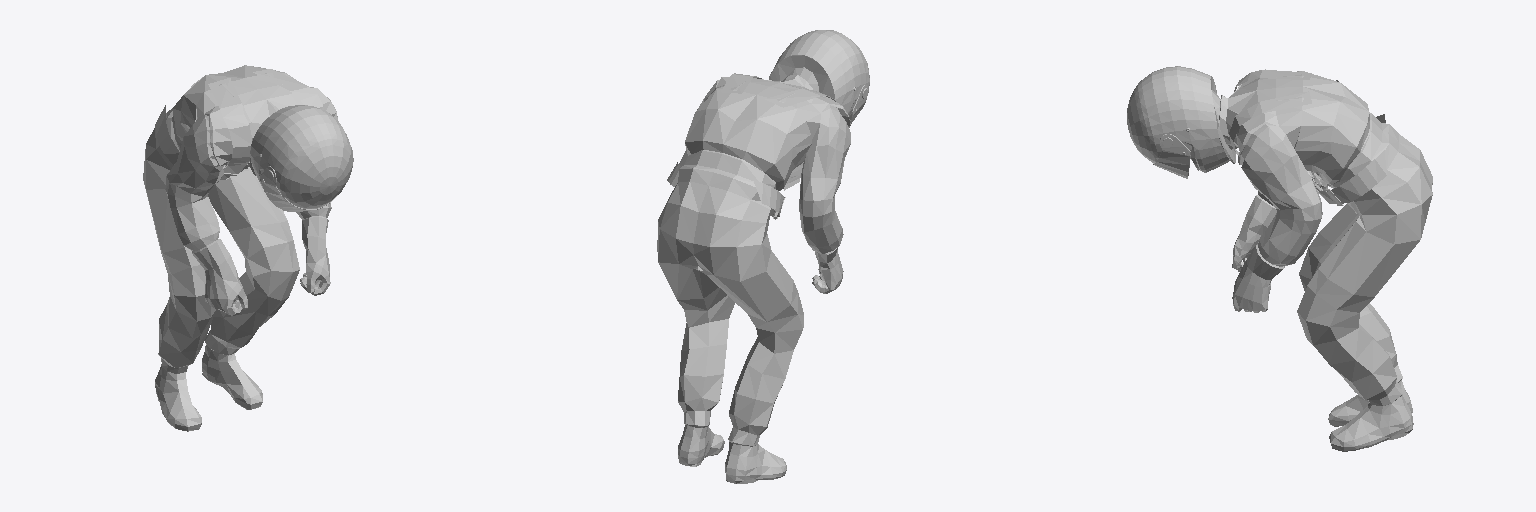
Rendered from GTR_Driver_only.obj.
3 views of the same model, side by side, from view 1: azimuth 30°, elevation 25°; view 2: azimuth 150°, elevation 25°; view 3: azimuth 270°, elevation 25° (orthographic).
Parts seen in each view (by area): view 1: Object.1; view 2: Object.1; view 3: Object.1.
Boxes of the visible parts, <box> form: Object.1: <box>143,65,353,431</box>; Object.1: <box>657,30,869,483</box>; Object.1: <box>1127,66,1432,451</box>.
Size of the model in its own units: 13.01 by 30.19 by 22.69.